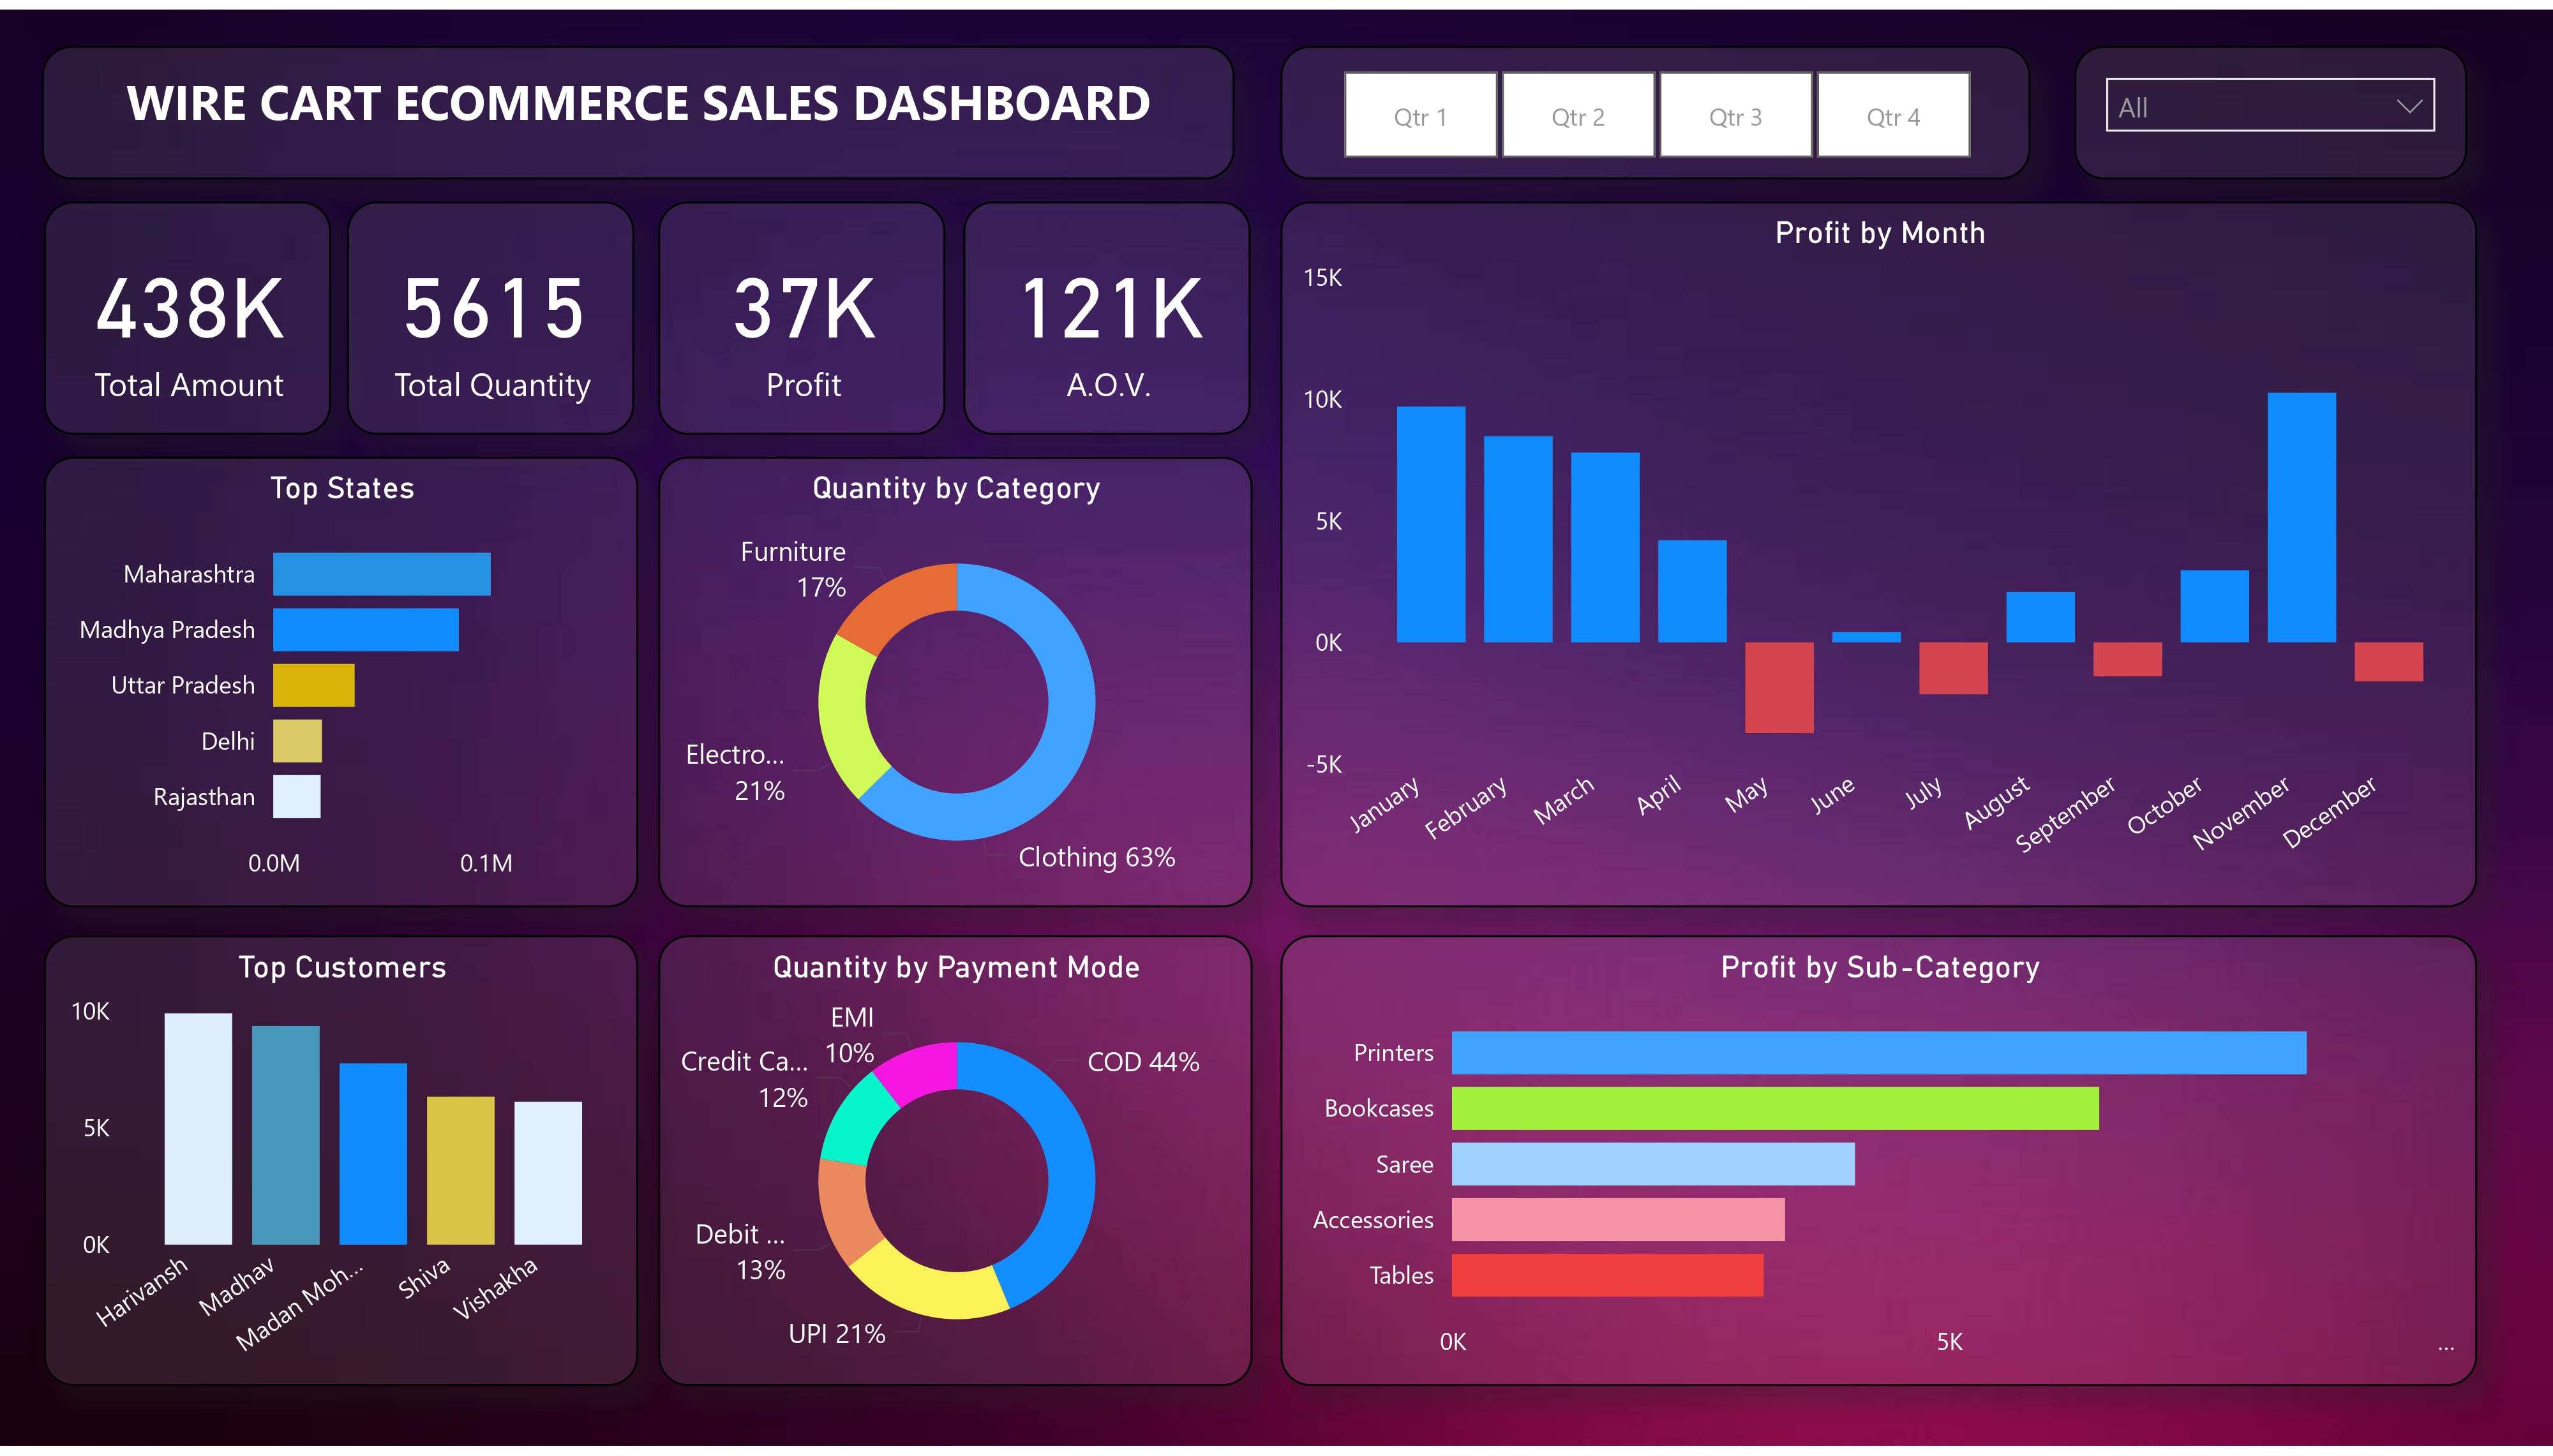

This screenshot's page, from the dashboard's own definition file:
{"tool":"powerbi","page":{"name":"Page 1","canvas":[1280,720],"ordinal":0},"visuals":[{"type":"textbox","box":[20.8,17.6,598.4,67.2],"z":0},{"type":"columnChart","title":"Profit by Month","fields":{"Category":["Orders.Order Date.Variation.Date Hierarchy.Month"],"Y":["Details.Profit"]},"box":[641.6,96,600,353.6],"z":1000},{"type":"barChart","title":"Profit by Sub-Category","fields":{"Y":["Details.Profit"],"Category":["Details.Sub-Category"]},"box":[641.6,464,600,225.6],"z":2000},{"type":"donutChart","title":"Quantity by Category","fields":{"Category":["Details.Category"],"Y":["Details.Quantity"]},"box":[329.6,224,297.6,225.6],"z":3000},{"type":"donutChart","title":"Quantity by Payment Mode","fields":{"Y":["Details.Quantity"],"Category":["Details.PaymentMode"]},"box":[329.6,464,297.6,225.6],"z":4000},{"type":"card","fields":{"Values":["Details.Amount"]},"box":[22.4,96,144,117],"z":5000},{"type":"card","fields":{"Values":["Details.Quantity"]},"box":[174.4,96,144,117],"z":6000},{"type":"card","fields":{"Values":["Details.Profit"]},"box":[329.6,96,144,117],"z":7000},{"type":"card","fields":{"Values":["Details.AOV"]},"box":[483.2,96,144,117],"z":8000},{"type":"barChart","title":"Top States","fields":{"Category":["Orders.State"],"Y":["Details.Amount"]},"box":[22.4,224,297.6,225.6],"z":9000},{"type":"columnChart","title":"Top Customers","fields":{"Category":["Orders.CustomerName"],"Y":["Details.Amount"]},"box":[22.4,464,297.6,225.6],"z":10000},{"type":"slicer","fields":{"Values":["Orders.Order Date.Variation.Date Hierarchy.Quarter"]},"box":[641.6,17.6,376,67.2],"z":11000},{"type":"slicer","fields":{"Values":["Orders.State"]},"box":[1040,17.6,196.8,67.2],"z":12000}]}

Visuals, with their boxes in screenshot pixels (x1, y1, x2, y2), scaled from the page's 1280x720 canvas onto the 2553x1456 screenshot:
textbox: [41, 36, 1235, 172]
"Profit by Month" columnChart: [1280, 194, 2476, 909]
"Profit by Sub-Category" barChart: [1280, 939, 2476, 1395]
"Quantity by Category" donutChart: [657, 453, 1251, 909]
"Quantity by Payment Mode" donutChart: [657, 939, 1251, 1395]
card - Details.Amount: [45, 194, 332, 431]
card - Details.Quantity: [348, 194, 635, 431]
card - Details.Profit: [657, 194, 945, 431]
card - Details.AOV: [964, 194, 1251, 431]
"Top States" barChart: [45, 453, 638, 909]
"Top Customers" columnChart: [45, 939, 638, 1395]
slicer - Orders.Order Date.Variation.Date Hierarchy.Quarter: [1280, 36, 2030, 172]
slicer - Orders.State: [2074, 36, 2467, 172]
